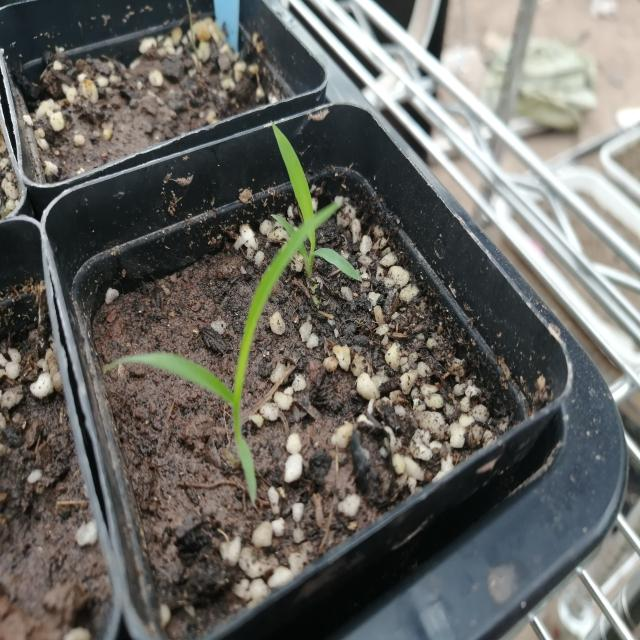crabgrass: (140, 215, 323, 495), (268, 123, 390, 298)
